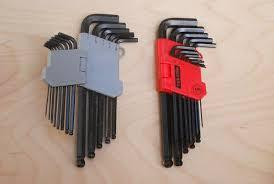wrench: (74, 12, 119, 168), (154, 16, 198, 169), (84, 20, 126, 159), (172, 24, 205, 166), (94, 26, 129, 149), (103, 29, 136, 144), (169, 44, 205, 146), (41, 30, 75, 136), (181, 31, 209, 153), (108, 36, 138, 139), (186, 36, 213, 149), (195, 42, 216, 143)
